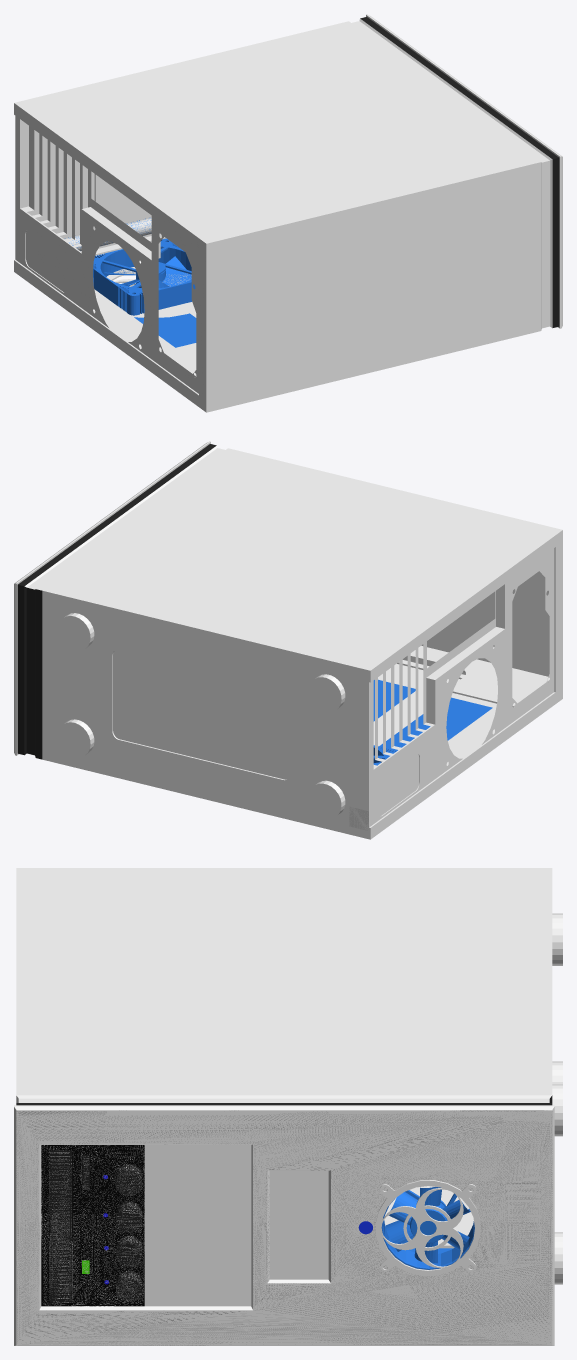
3 renders of one model, top to bottom at view 1: azimuth 30°, elevation 25°; view 2: azimuth 150°, elevation 25°; view 3: azimuth 270°, elevation 25°, orthographic. The views are drawn at different scales.
Visible parts, largest first — view 1: pc redigert av ballers; view 2: pc redigert av ballers; view 3: pc redigert av ballers.
Boxes of the visible parts, x1=… form: pc redigert av ballers: x1=14, y1=14, x2=562, y2=412; pc redigert av ballers: x1=14, y1=441, x2=562, y2=839; pc redigert av ballers: x1=14, y1=868, x2=562, y2=1345.
Bounding box in the file's own units: 19.25 × 8.7 × 17.99.
